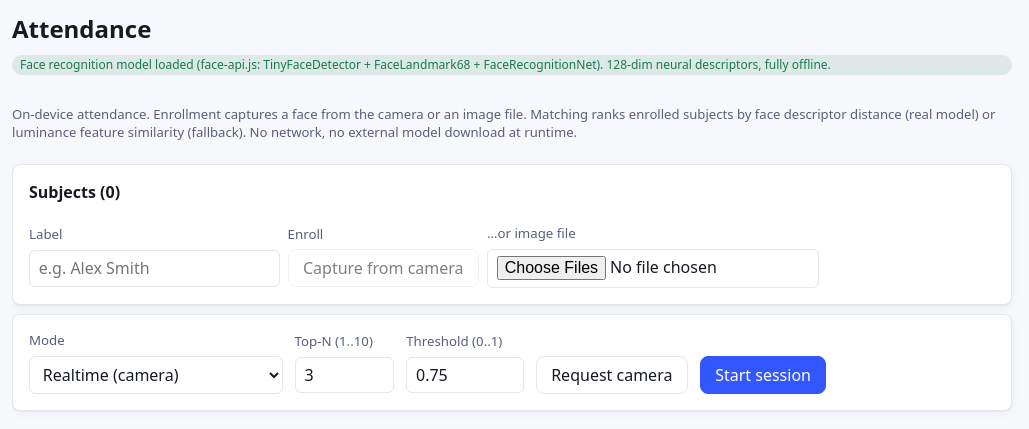
Test: AttendancePanel component › disables Request camera when mode is not realtime
Select "Batch matching (image files)" in the dropdown at (156, 375), box [29,356,283,394]
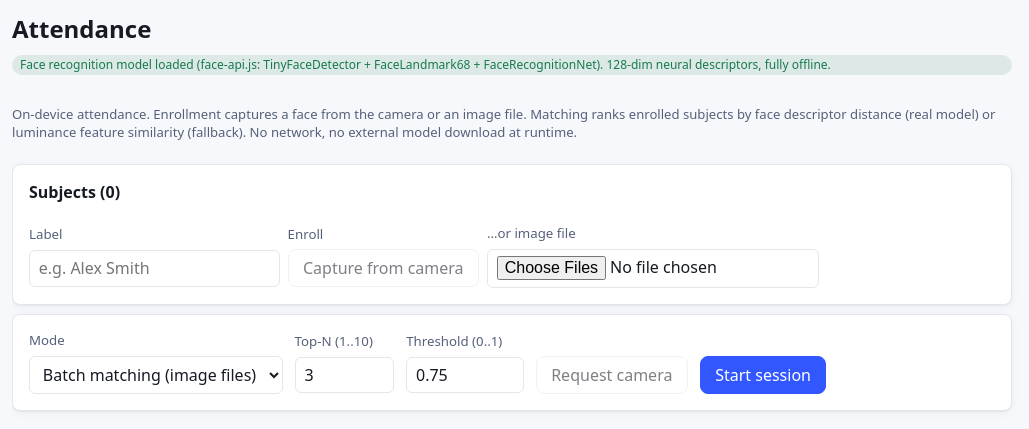
Result: the button "Request camera" is disabled at [536,356,688,394]
